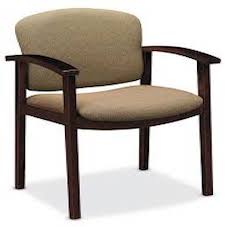chair: (3, 5, 213, 219)
